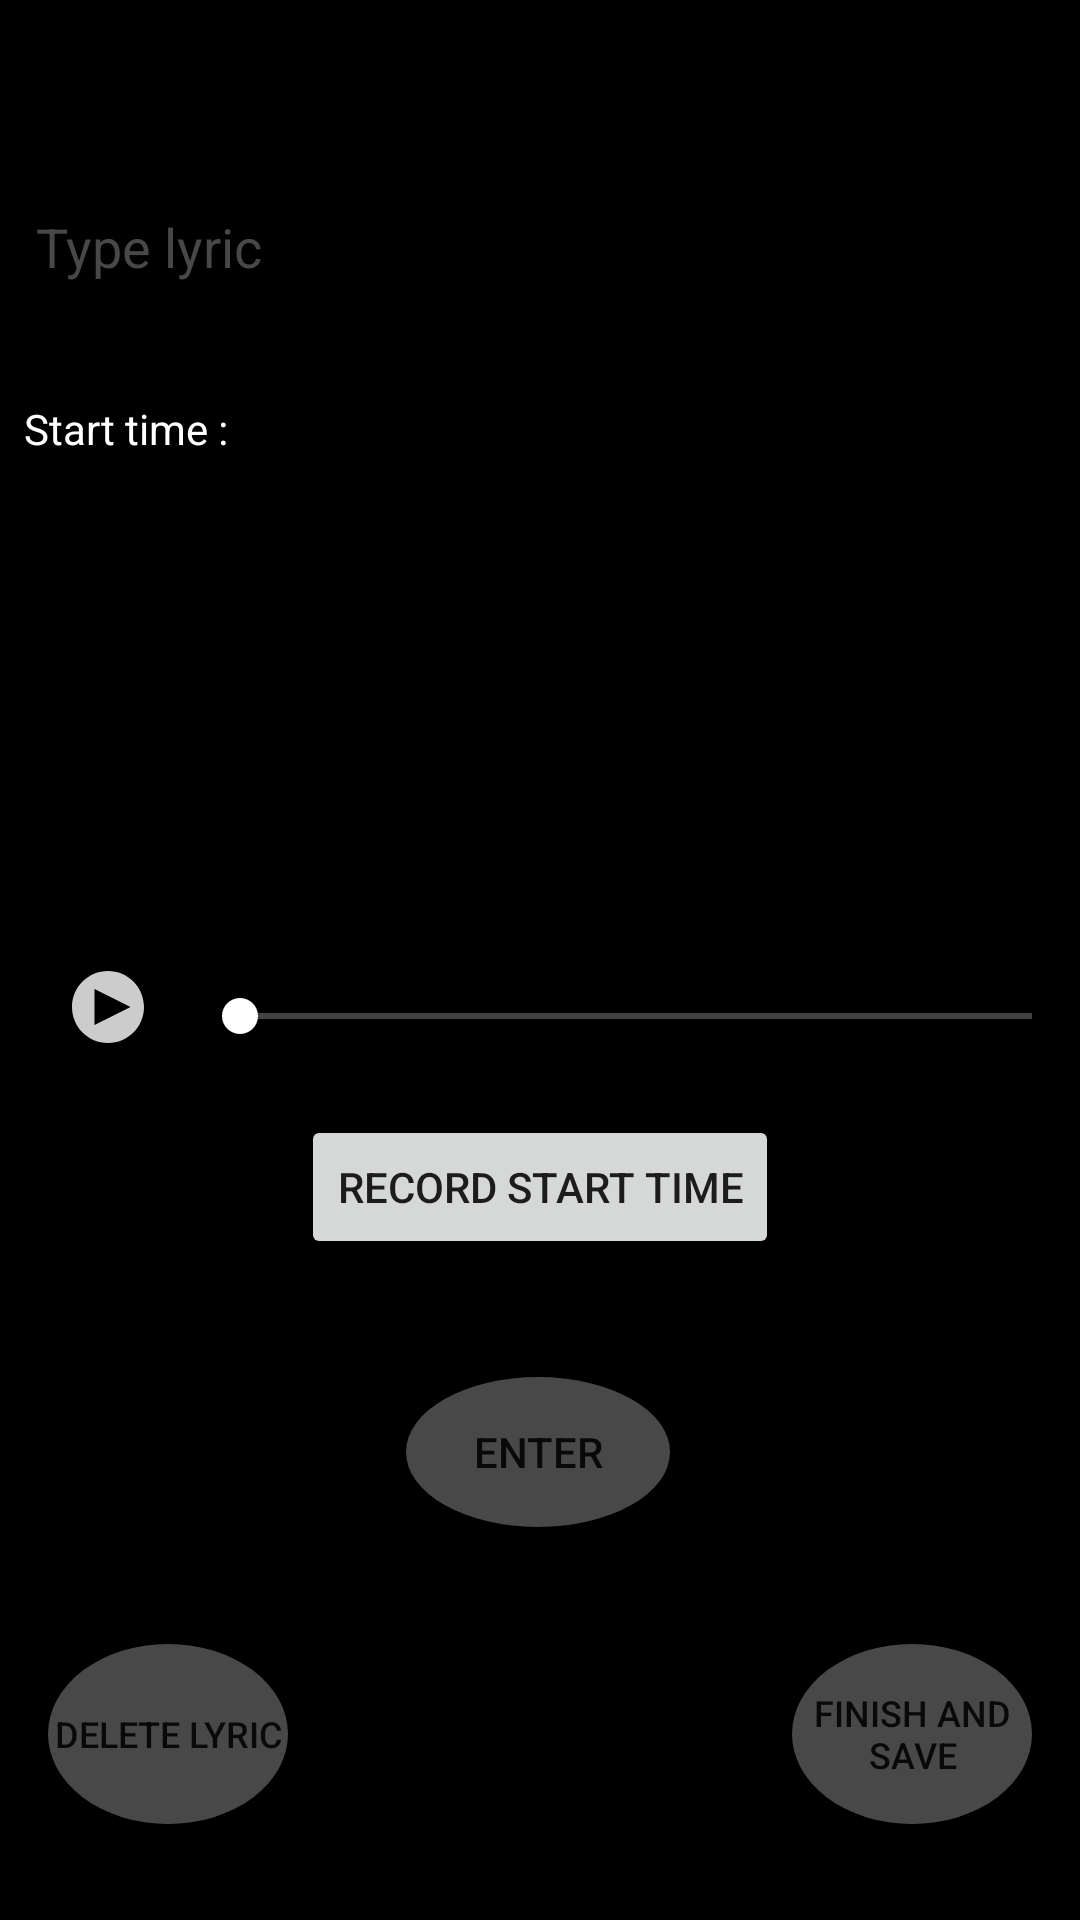

Icon bounding boxes for this 1080 x 1920 phone screenshot, format (x1, y1, x2, y2):
play: (72, 971, 144, 1043)
